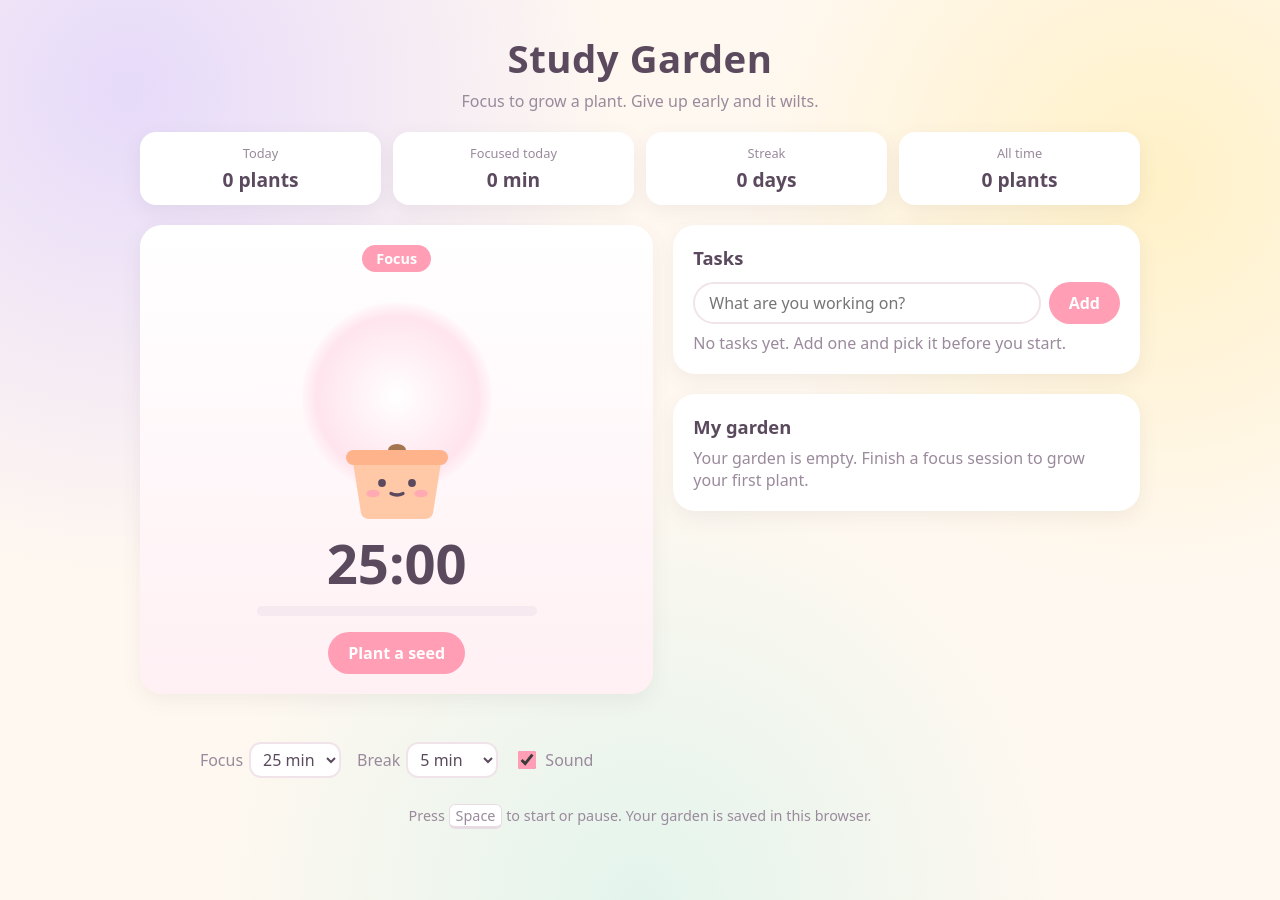
Test case: App › grows a plant during a focus session and adds it to the garden
This screenshot has width=1280, height=900.
Later steps or results of the test are not shown.
Select "15 min" in the dropdown labelled "Focus" at (295, 760), box [249,742,341,778]
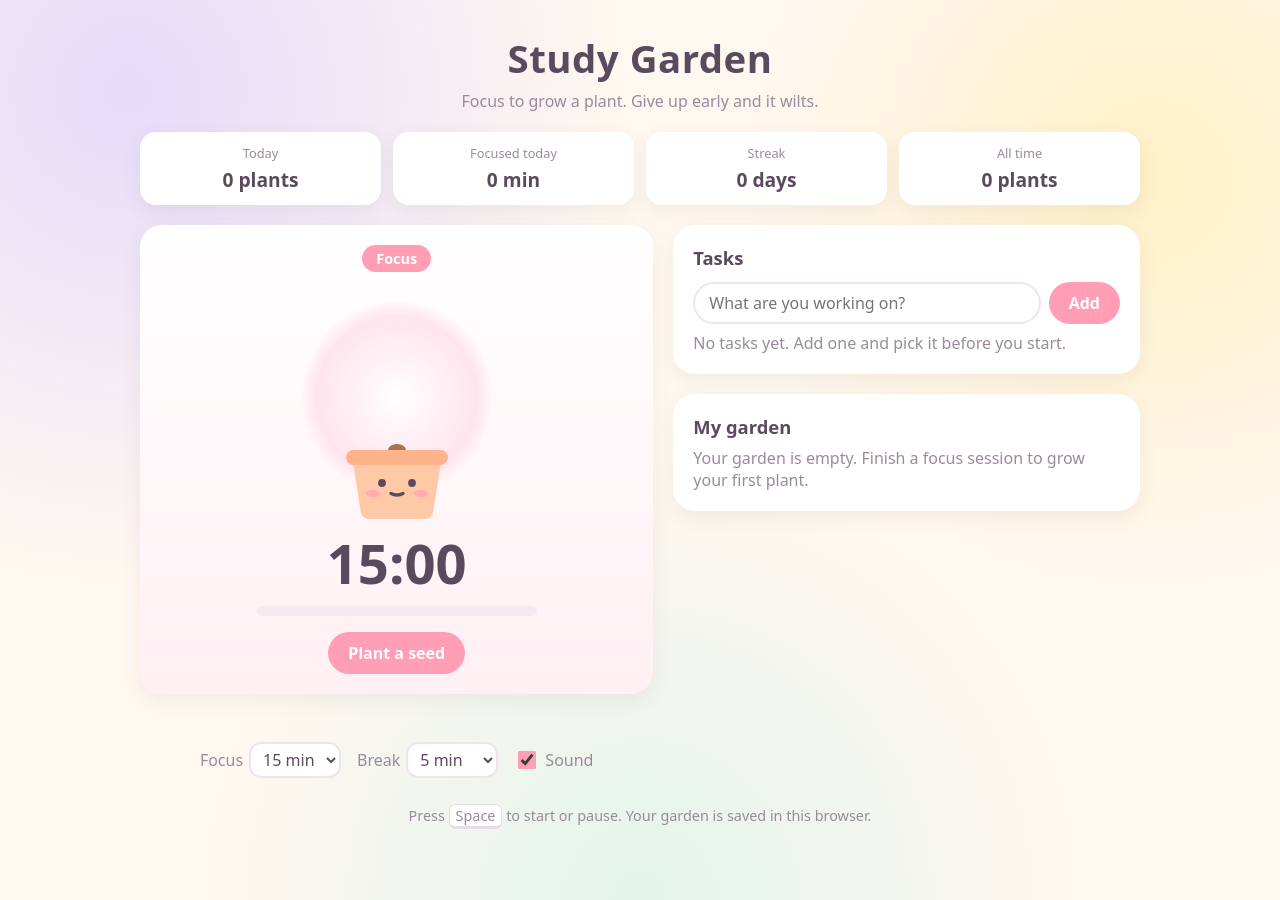
Click the button "Plant a seed" at (397, 653), box [328,632,465,674]
Wait 900000 ms
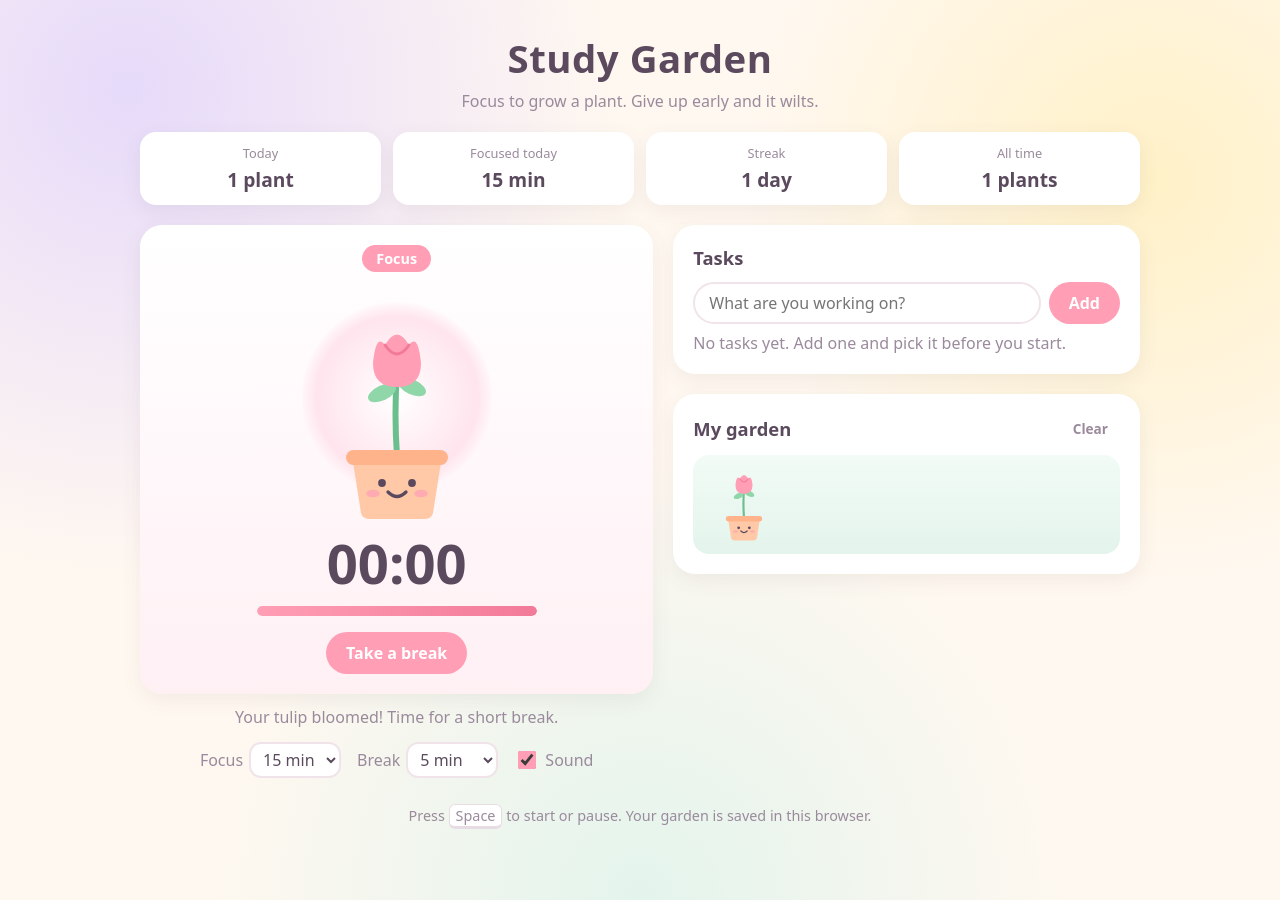
Check: the message shows "Your tulip bloomed!", box [235,706,558,728]
Check: the picture named "bloom tulip" is shown, box [307,312,487,522]
Check: the text "15 min" is shown, box [481,166,546,193]
